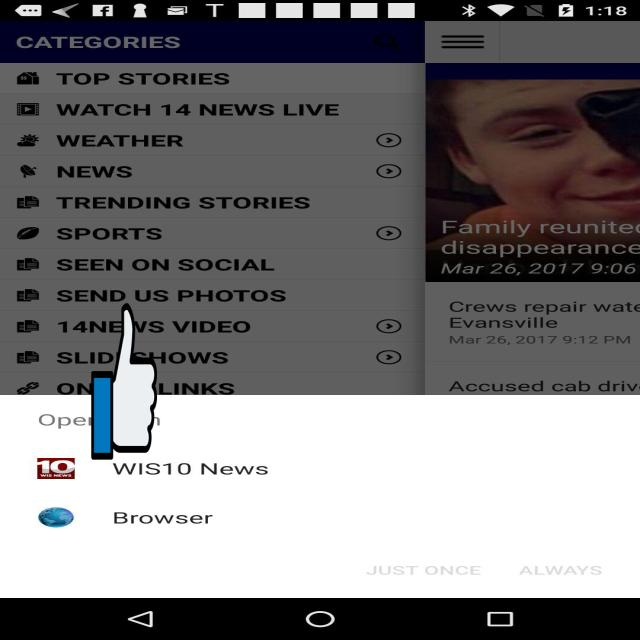privacy zuckering: (91, 300, 157, 463)
